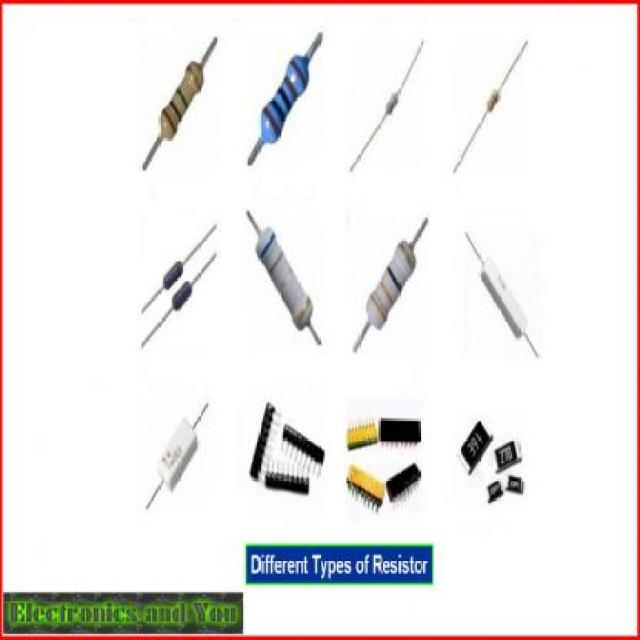Capacitor: (142, 38, 215, 171), (248, 35, 320, 166)
